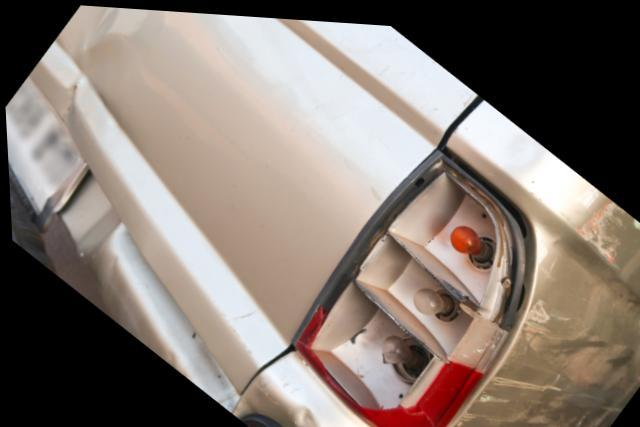dent: (54, 4, 145, 51), (281, 400, 324, 427)
lamp broken: (290, 150, 526, 427)
scratch: (444, 286, 575, 427), (576, 189, 631, 252)
